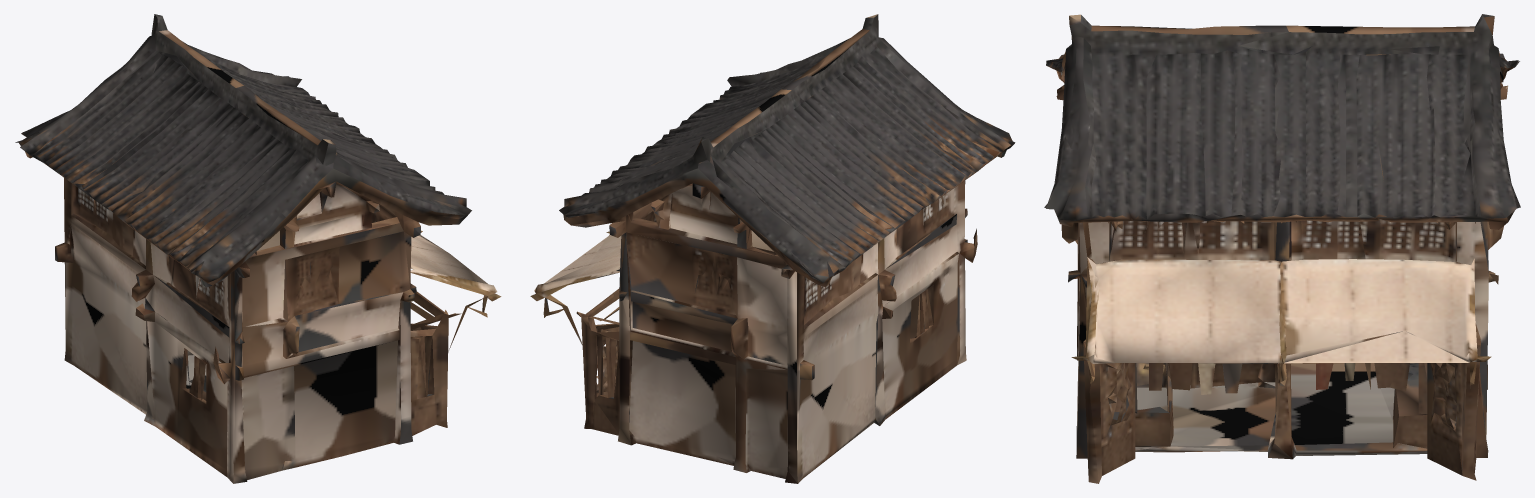
File: 08_Cloth_Dye_Shop_LOD2.fbx
The picture shows the model from 3 angles, left to right: view 1: azimuth 30°, elevation 25°; view 2: azimuth 150°, elevation 25°; view 3: azimuth 270°, elevation 25°; orthographic projection. The views are drawn at different scales.
Parts seen in each view (by area): view 1: 08_Cloth_Dye_Shop_L2; view 2: 08_Cloth_Dye_Shop_L2; view 3: 08_Cloth_Dye_Shop_L2.
Boxes of the visible parts, bbox=[...] form: 08_Cloth_Dye_Shop_L2: bbox=[15, 14, 501, 483]; 08_Cloth_Dye_Shop_L2: bbox=[530, 14, 1015, 483]; 08_Cloth_Dye_Shop_L2: bbox=[1044, 14, 1520, 483].
Bounding box in the file's own units: 8.3 × 8 × 8.78.
